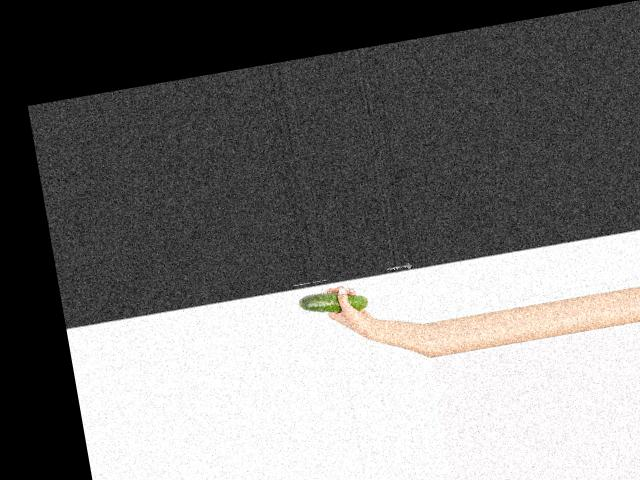cucumber: (296, 284, 368, 319)
